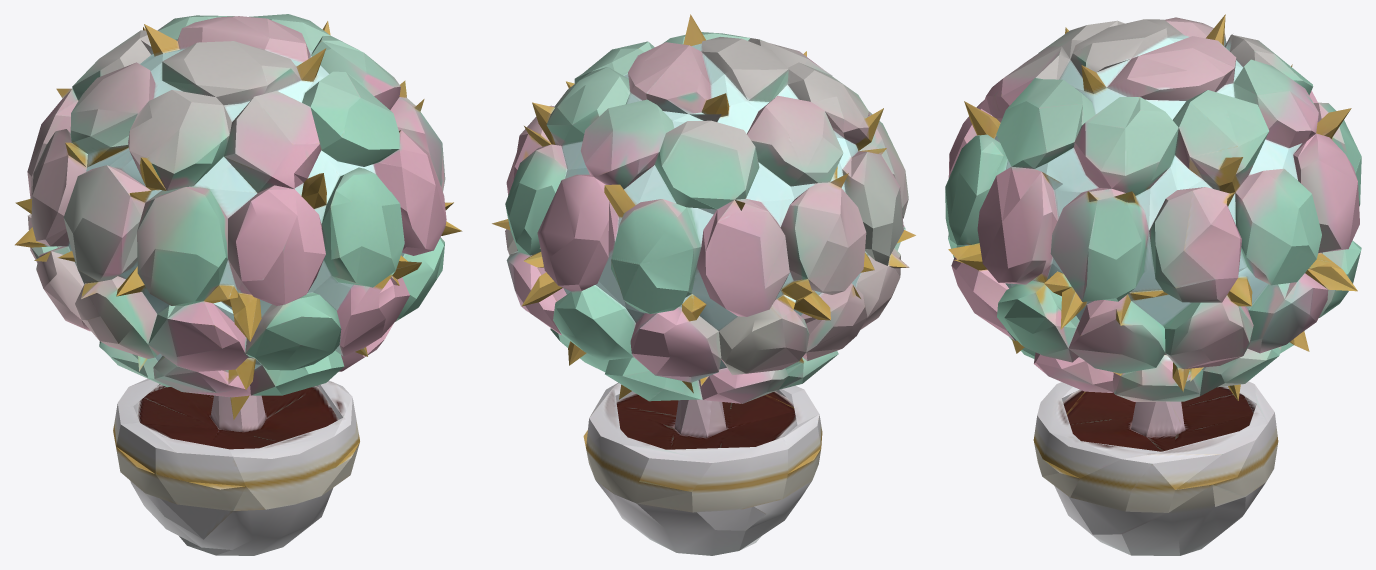
Rendered from tree-pot.glb.
3 views of the same model, side by side, from view 1: azimuth 30°, elevation 25°; view 2: azimuth 150°, elevation 25°; view 3: azimuth 270°, elevation 25° (orthographic). The views are drawn at different scales.
Size of the model in its own units: 1.47 by 1.89 by 1.45.
Materials: 1 (1 with a texture image).
